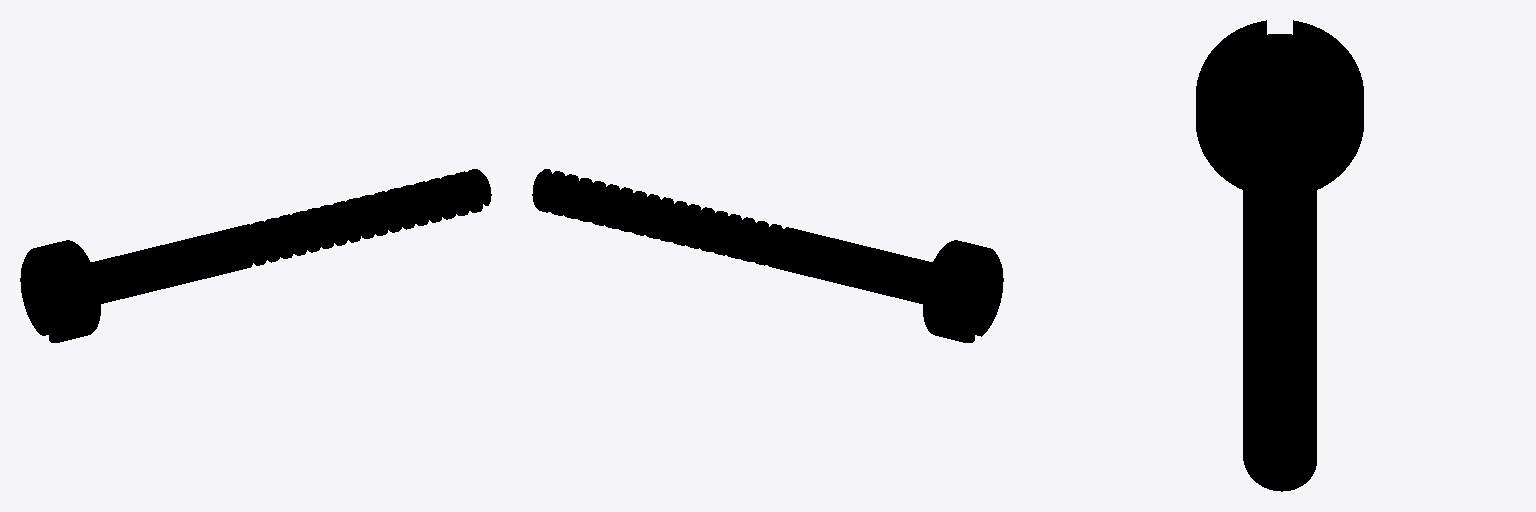
The robot description file, URDF, robot "screw_round":
<?xml version="1.0" ?>
<robot name="screw_round">
  <link name="baseLink">
    <contact>
      <lateral_friction value="1.0"/>
      <rolling_friction value="0.0"/>
      <contact_cfm value="0.0"/>
      <contact_erp value="1.0"/>
    </contact>
    <inertial>
      <origin rpy="0 0 0" xyz="0.032274 0.000008 -0.000003"/>
       <mass value="0.012"/>
       <inertia ixx="0.000000438" ixy="0.0" ixz="0" iyy="0.000013179" iyz="0" izz="0.000013180"/>
    </inertial>
    <visual>
      <origin rpy="0 0 0" xyz="0.032274 0.000008 -0.000003"/>
      <geometry>
        <mesh filename="../obj/screw_round.obj" scale=".001 .001 .001"/>
      </geometry>
       <material name="black">
        <color rgba="0 0 0 1"/>
      </material>
    </visual>
    <collision concave="yes">
      <origin rpy="0 0 0" xyz="0.032274 0.000008 -0.000003"/>
      <geometry>
	 	<mesh filename="../obj/screw_round.obj" scale=".001 .001 .001"/>
      </geometry>
    </collision>
  </link>
</robot>

--- Facts derived from the render (not from the file) ---
Views: 3 orthographic renders of the robot side by side, from view 1: azimuth 30°, elevation 25°; view 2: azimuth 150°, elevation 25°; view 3: azimuth 270°, elevation 25°.
Robot: screw_round — 1 links, 0 joints (none); root link baseLink; default pose: all joints at 0.
Links seen in each view (by area): view 1: baseLink; view 2: baseLink; view 3: baseLink.
Link boxes in pixels (x1,y1,x2,y2): baseLink: (20,169,491,342); baseLink: (532,169,1003,342); baseLink: (1196,20,1363,491).
Bounding box of the posed robot: 0.13 × 0.025 × 0.025 m (x, y, z).
Meshes: 1 distinct files referenced, 1 mesh visuals loaded (1 OBJ).
